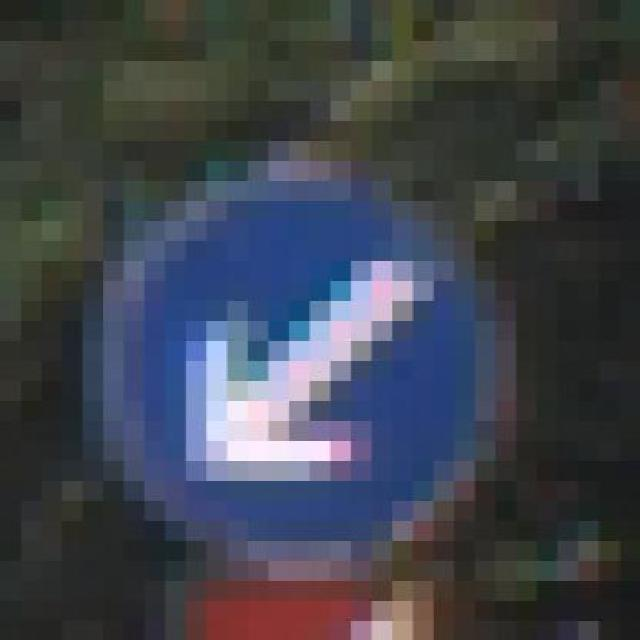Keep-Left: (62, 140, 558, 600)
